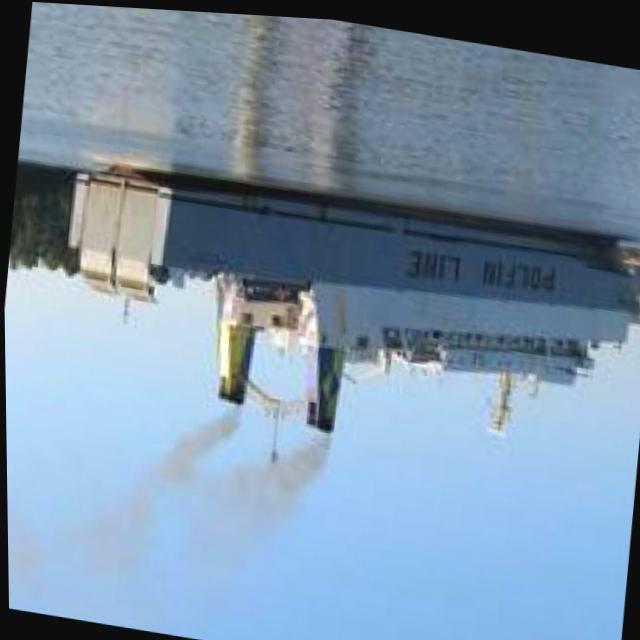ship2: (63, 163, 640, 462)
